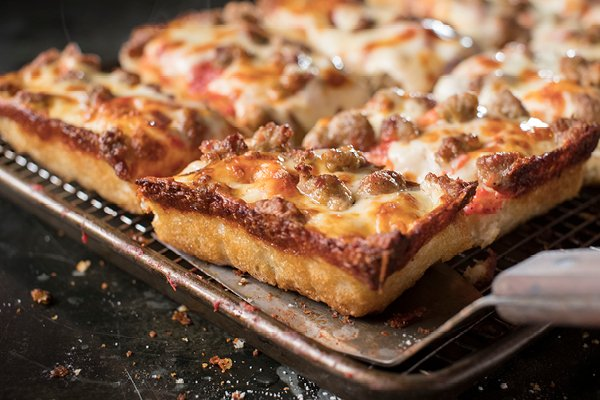sandwich: (3, 0, 598, 319)
